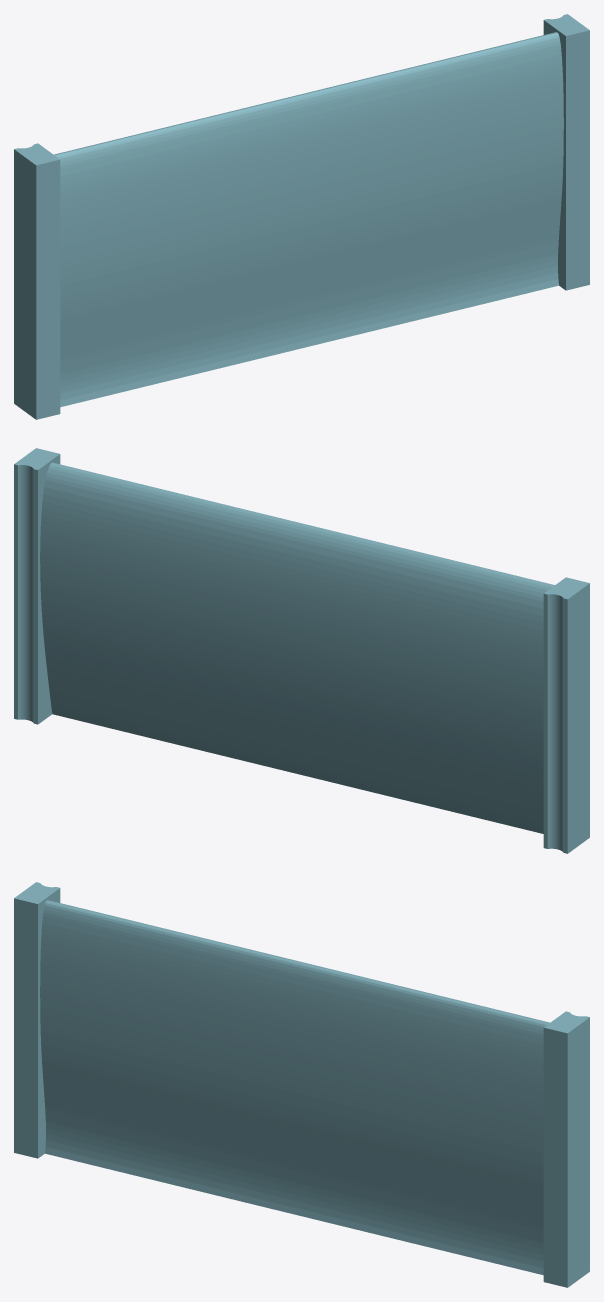
The model's file is wingflex.glb.
3 renders of one model, top to bottom at view 1: azimuth 30°, elevation 25°; view 2: azimuth 150°, elevation 25°; view 3: azimuth 330°, elevation 25°, orthographic.
Visible parts, largest first — view 1: wingflex; view 2: wingflex; view 3: wingflex.
Boxes of the visible parts, bbox=[...] form: wingflex: bbox=[14, 14, 589, 419]; wingflex: bbox=[14, 448, 589, 853]; wingflex: bbox=[14, 882, 589, 1287].
Size of the model in its own units: 0.23 by 0.101 by 0.016.
